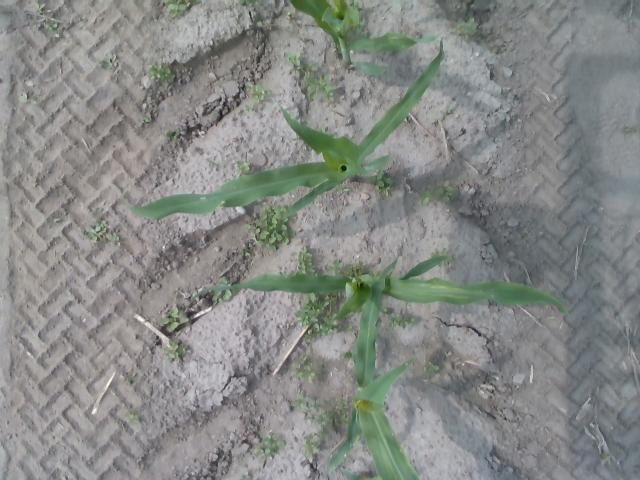Maize: (126, 37, 444, 222), (189, 256, 575, 322), (325, 255, 422, 480), (290, 0, 442, 74), (341, 468, 362, 480)
Weeds: (290, 392, 332, 464), (282, 50, 337, 102), (243, 204, 300, 254), (292, 292, 344, 343), (417, 180, 462, 210), (290, 355, 329, 382), (253, 433, 287, 461), (368, 169, 396, 199), (162, 0, 201, 21), (158, 304, 188, 331), (146, 58, 177, 84), (293, 244, 317, 274), (244, 81, 275, 103), (452, 16, 478, 42), (330, 393, 350, 426), (162, 340, 190, 362), (388, 311, 417, 331), (84, 220, 108, 244), (212, 278, 231, 302), (343, 259, 365, 275), (97, 52, 116, 70), (16, 92, 40, 106), (124, 407, 142, 425), (326, 258, 344, 274), (123, 370, 139, 388), (165, 128, 181, 142), (236, 160, 251, 174), (438, 106, 451, 122), (623, 123, 640, 135), (106, 232, 120, 245), (45, 20, 59, 33), (424, 361, 439, 373), (243, 102, 255, 116), (34, 3, 47, 15), (348, 0, 362, 11), (238, 0, 260, 6), (174, 287, 184, 299), (140, 116, 152, 126), (340, 350, 352, 360), (600, 452, 612, 462), (353, 17, 362, 30), (430, 249, 448, 255), (240, 249, 252, 257), (243, 472, 253, 480), (382, 306, 389, 316), (520, 233, 529, 239), (344, 326, 352, 332), (54, 33, 62, 39), (446, 258, 454, 262), (439, 262, 443, 268)
